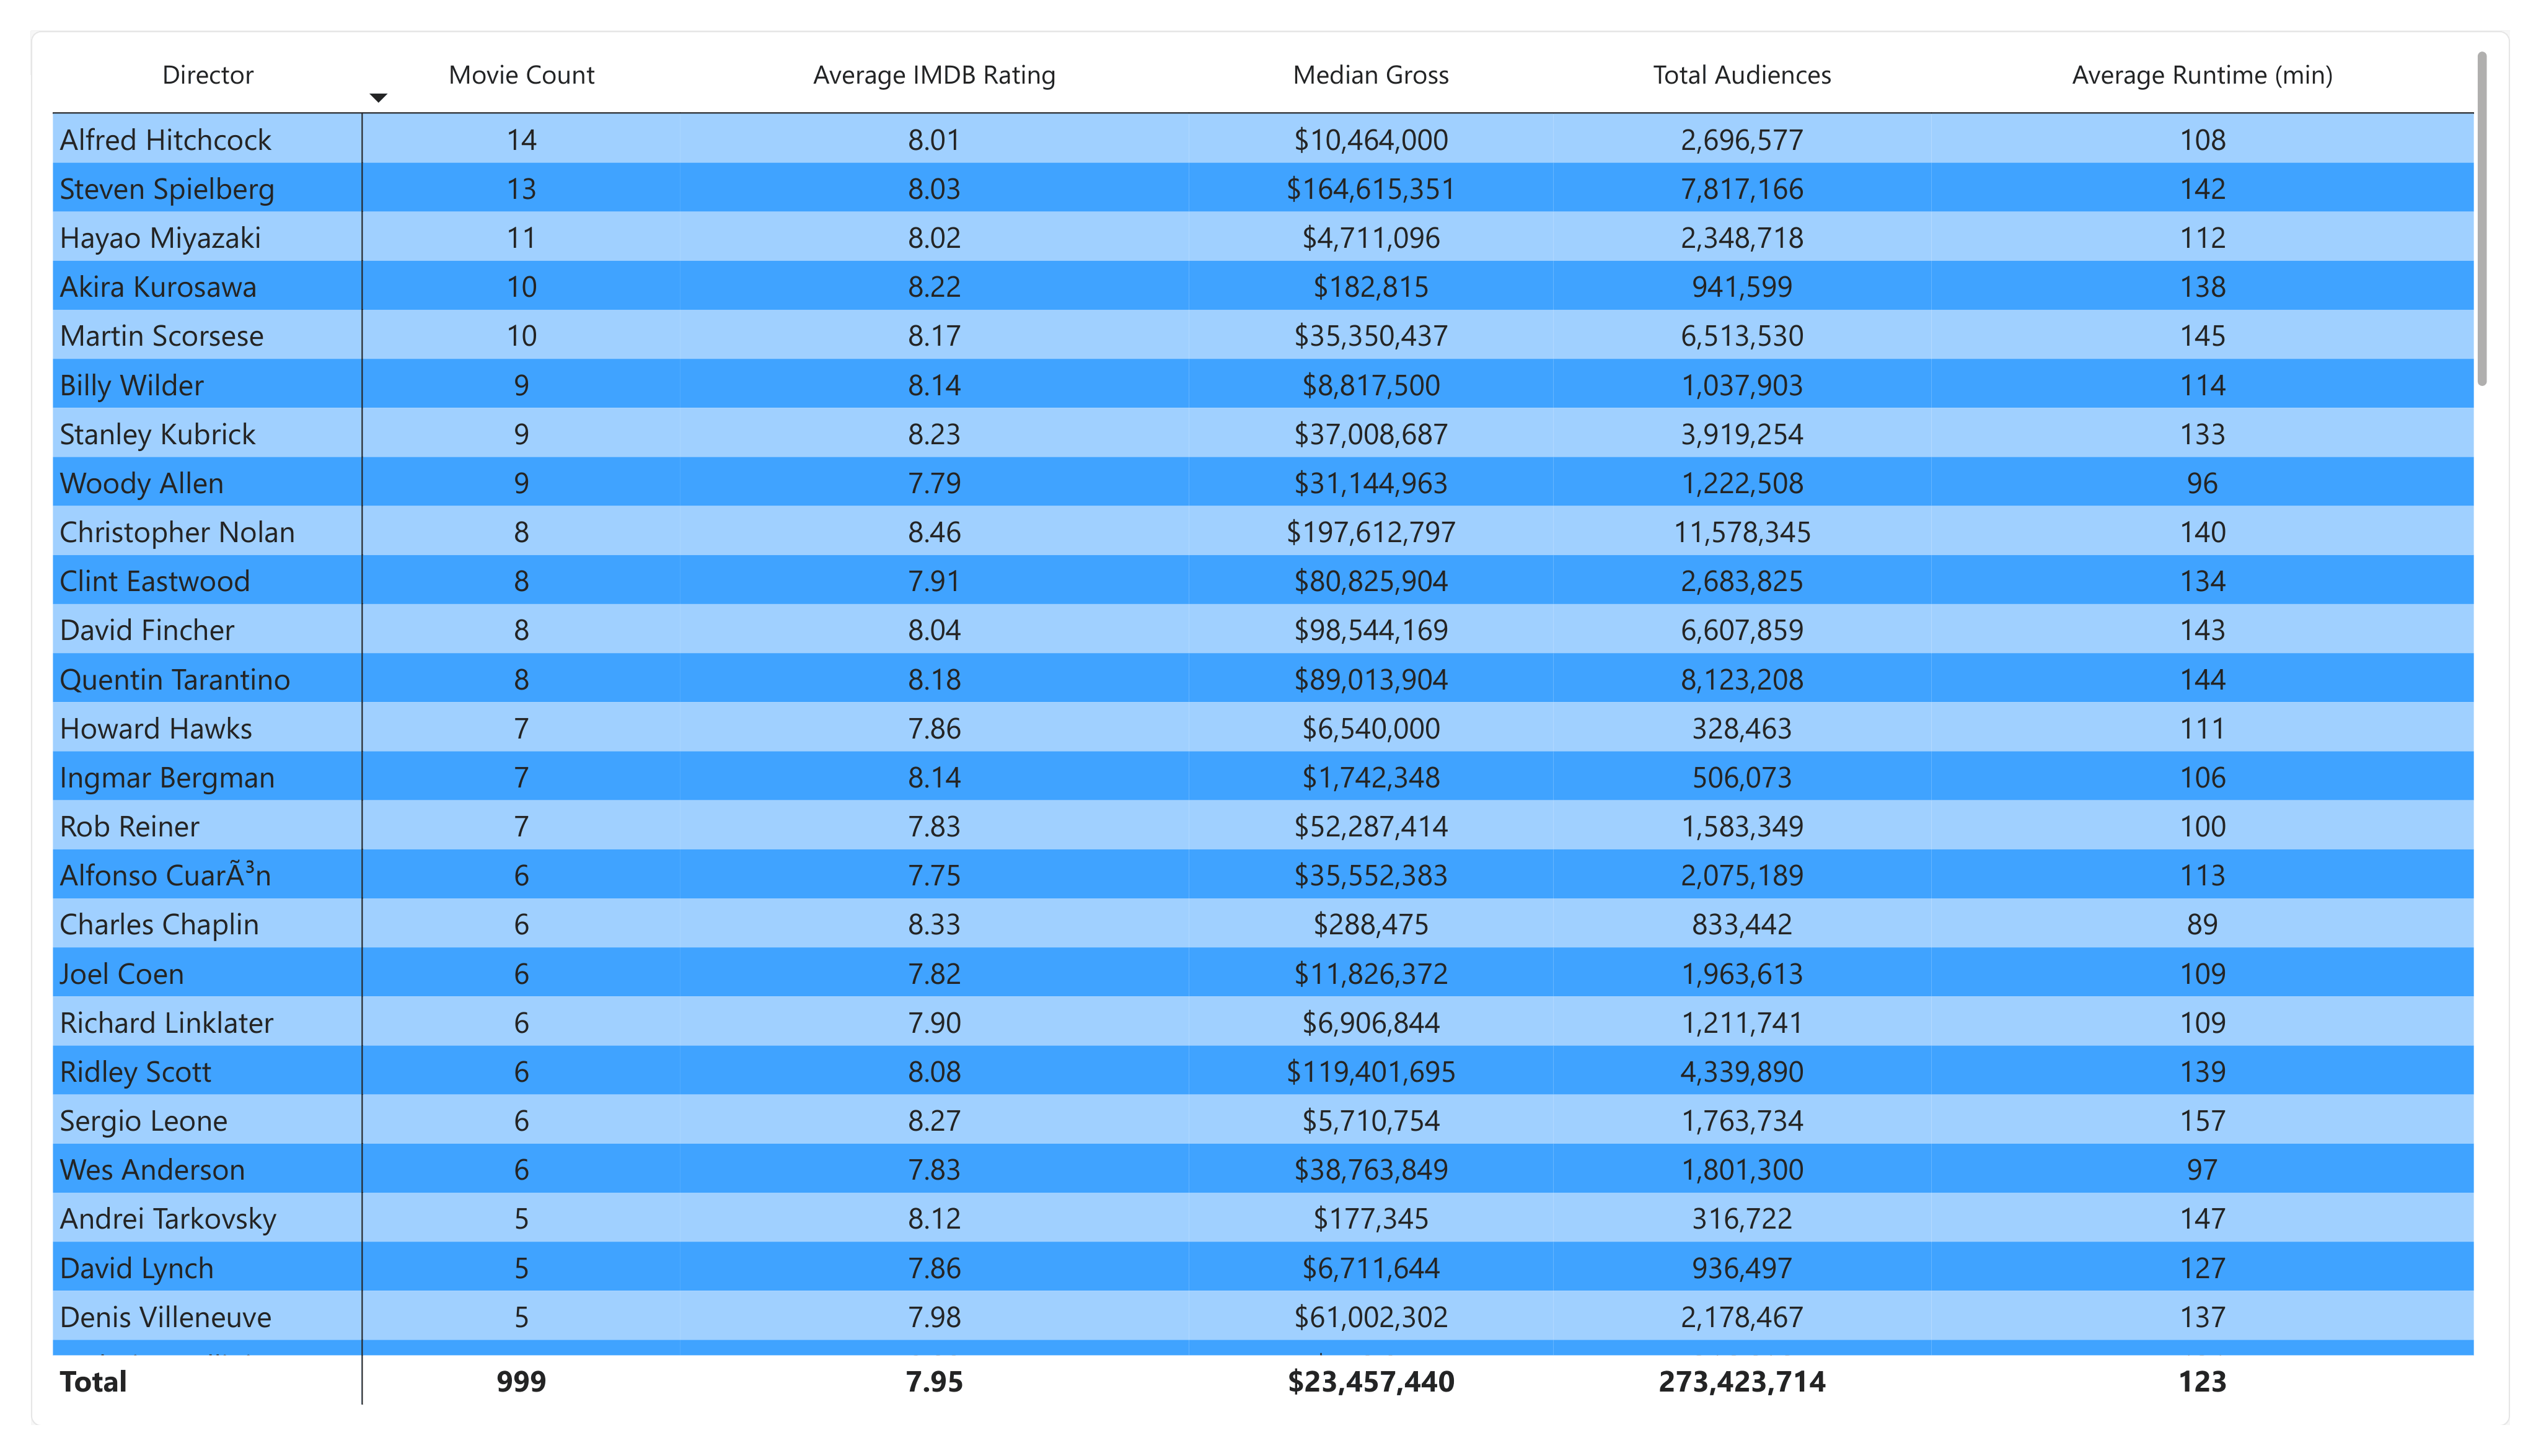

This screenshot's page, from the dashboard's own definition file:
{"tool":"powerbi","page":{"name":"Director Analysis","canvas":[1920,1080],"ordinal":2},"visuals":[{"type":"pivotTable","fields":{"Rows":["imdb_top_1000.Director"],"Values":["CountNonNull(imdb_top_1000.MovieID)","Avg(imdb_top_1000.IMDB_Rating)","Median(imdb_top_1000.Gross)","Sum(imdb_top_1000.No_of_Votes)","Avg(imdb_top_1000.Runtime)"]},"box":[0,0,1920,1080.9],"z":1000}]}

Visuals, with their boxes on the page's 1920x1080 design canvas (x1, y1, x2, y2). These are canvas units, not pixel positions in the 2541x1456 screenshot, which may show the page scaled, cropped or inside an application window:
pivotTable - imdb_top_1000.Director x CountNonNull(imdb_top_1000.MovieID): {"left": 0, "top": 0, "right": 1920, "bottom": 1081}
